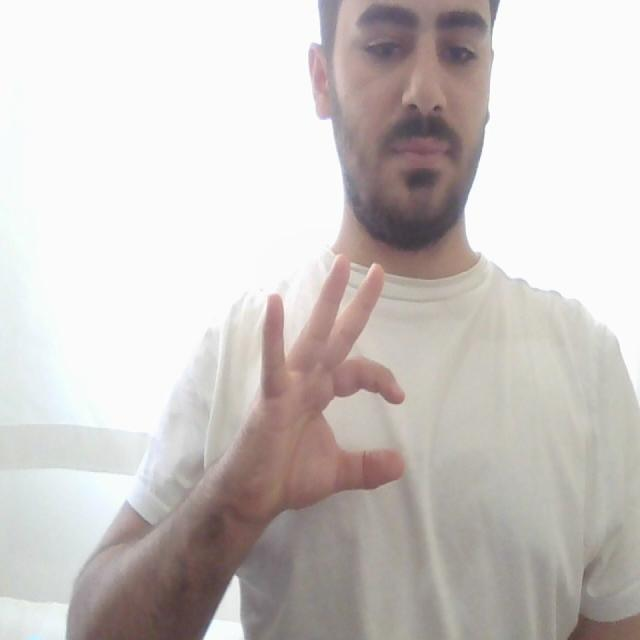Tuvalet: (218, 236, 451, 536)
